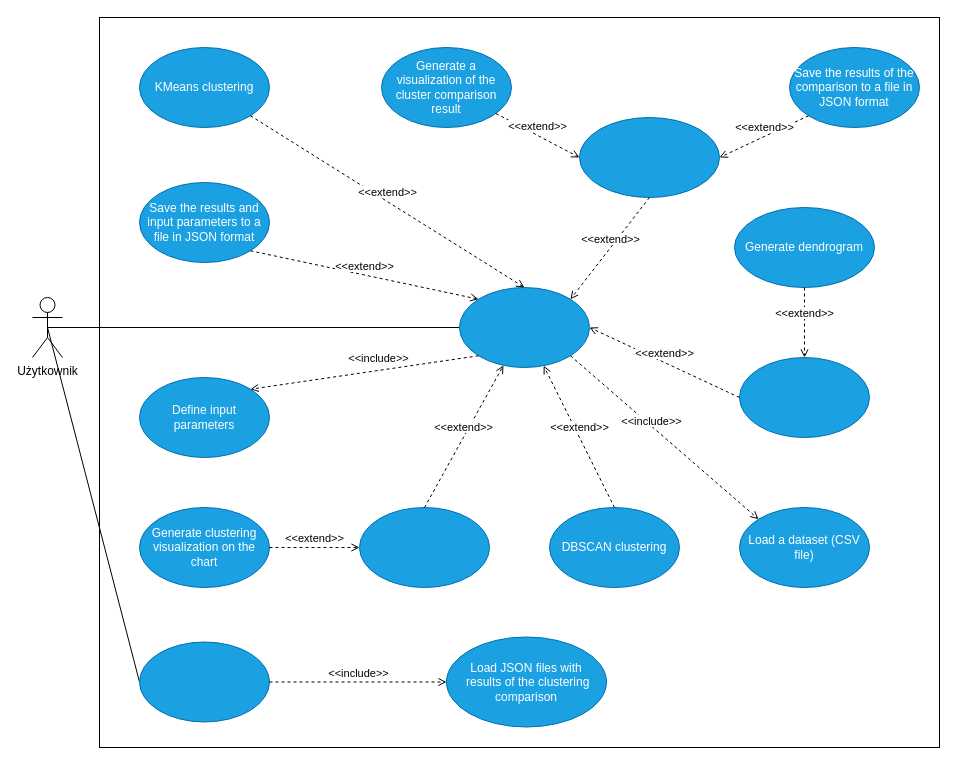
This 957x765 diagram has some shape labels left out. Here are the shapes that lost their labels. From the top down, the box of each, then its label:
(578, 116, 720, 198): Compare the content of clusters between methods
(458, 286, 590, 368): Data clustering
(738, 356, 870, 438): Hierarchical clustering
(358, 506, 490, 588): Preview of the result of the clustering process
(138, 641, 270, 722): Generate a visualization of the performance of clustering methods
